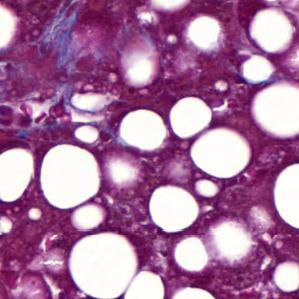steatosis: (41, 144, 101, 209), (149, 185, 199, 232), (0, 146, 36, 203), (273, 164, 299, 229)
